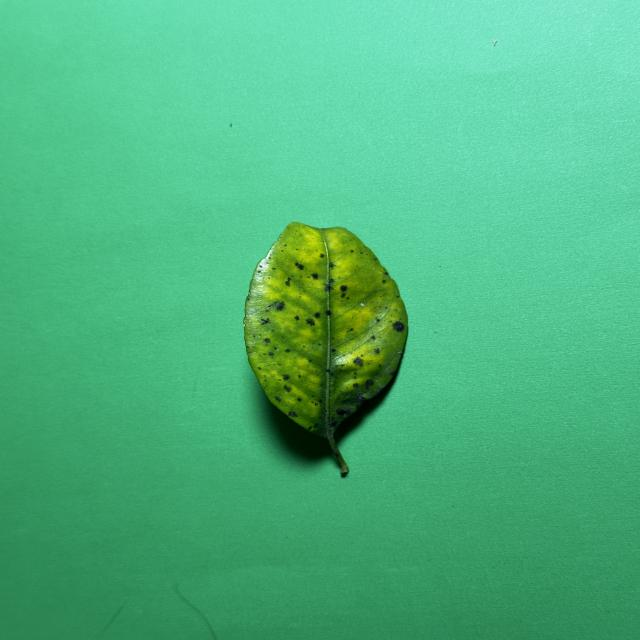sooty_mold: (244, 223, 408, 476)
